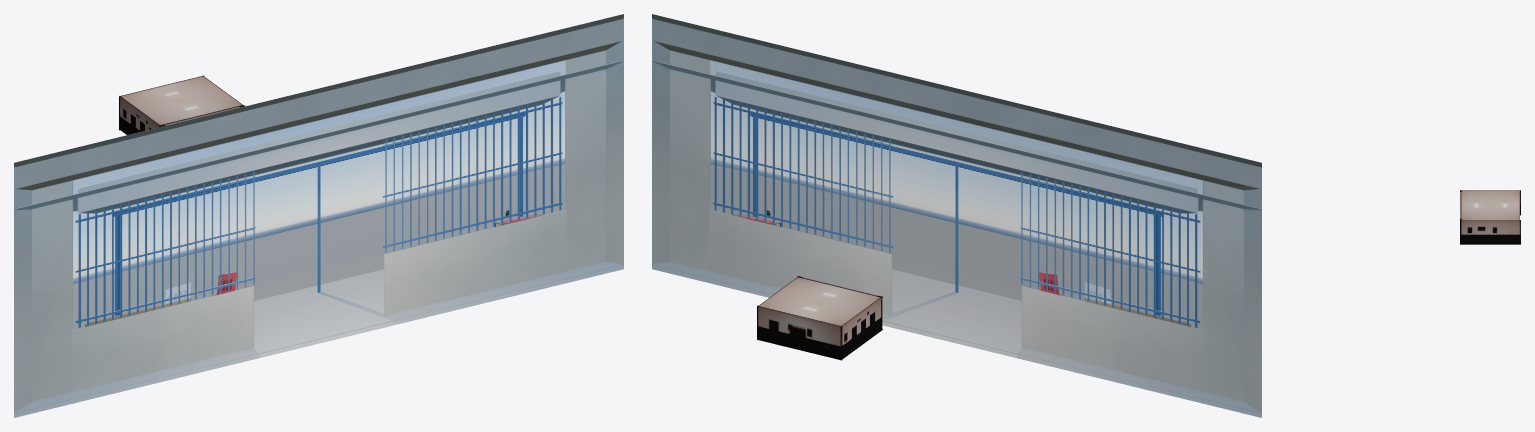
File: int_blessing_salon.glb
3 views of the same model, side by side, from view 1: azimuth 30°, elevation 25°; view 2: azimuth 150°, elevation 25°; view 3: azimuth 270°, elevation 25° (orthographic). The views are drawn at different scales.
Visible parts, largest first — view 1: VIEW_front, ROOM; view 2: VIEW_front, ROOM; view 3: ROOM.
Part boxes in pixels (x1=…): VIEW_front: x1=14, y1=14, x2=623, y2=417; ROOM: x1=119, y1=75, x2=244, y2=134; VIEW_front: x1=652, y1=14, x2=1261, y2=417; ROOM: x1=757, y1=276, x2=882, y2=360; ROOM: x1=1460, y1=190, x2=1520, y2=244.
Size of the model in its own units: 61.71 by 24.68 by 27.69.
3 materials, 2 textured.
